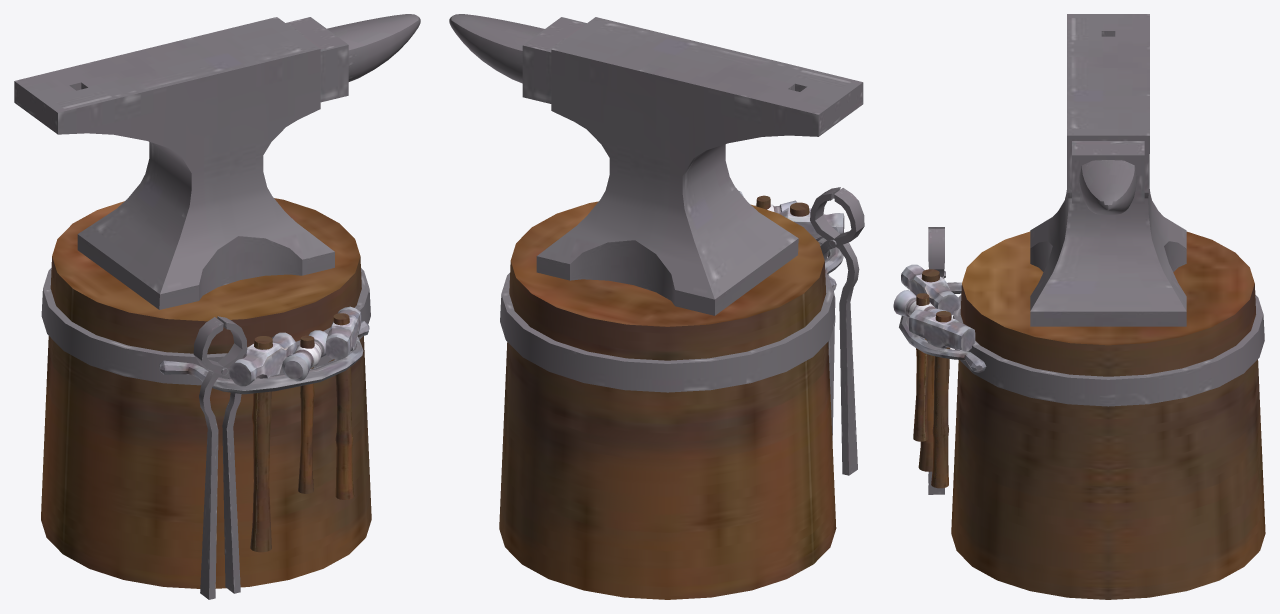
The model's file is prop-qp-anvillog.glb.
3 views of the same model, side by side, from view 1: azimuth 30°, elevation 25°; view 2: azimuth 150°, elevation 25°; view 3: azimuth 270°, elevation 25° (orthographic). The views are drawn at different scales.
Parts seen in each view (by area): view 1: Cylinder_036; view 2: Cylinder_036; view 3: Cylinder_036.
Boxes of the visible parts, x1,y1,x2,y2 form: Cylinder_036: (14, 14, 420, 599); Cylinder_036: (449, 14, 864, 599); Cylinder_036: (893, 14, 1265, 599).
Bounding box in the file's own units: 0.9293 × 1.07 × 0.8214.
3 materials, 3 textured.
